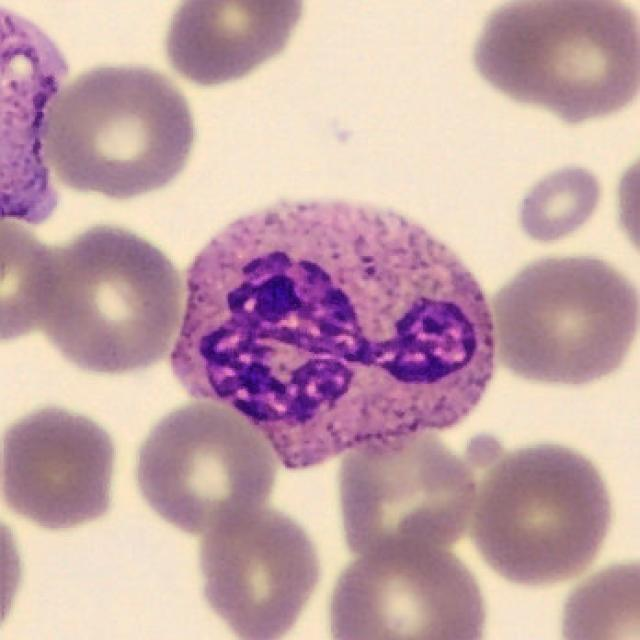Neutrofilo segmentado: (169, 199, 497, 471)
